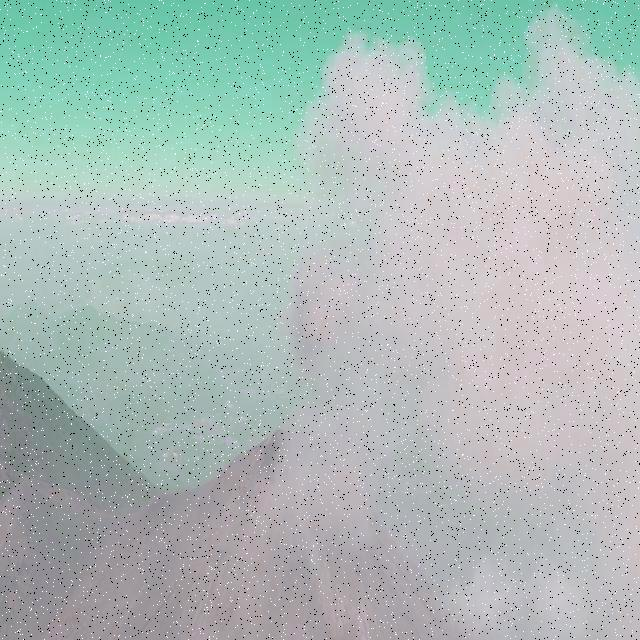Plume: (274, 2, 640, 624)
Summit: (158, 392, 451, 640)
